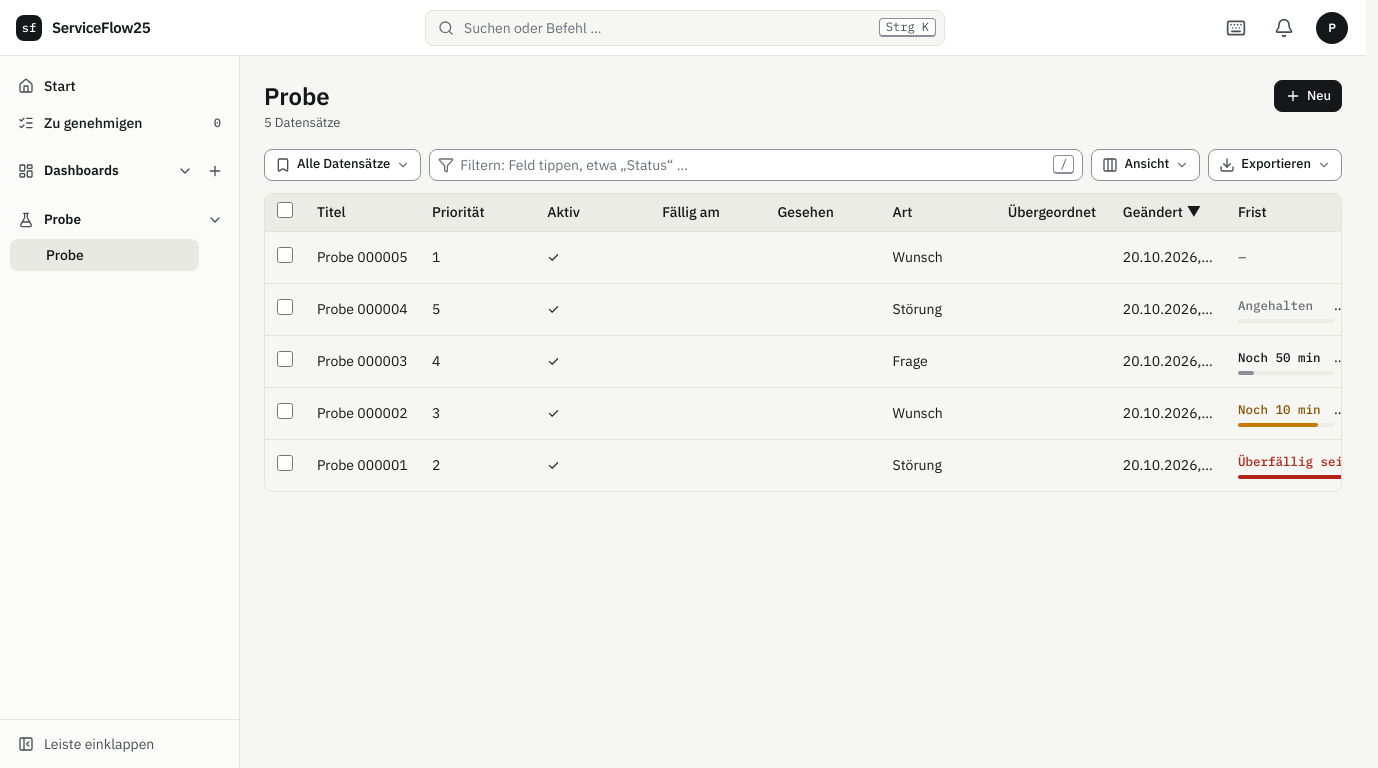
Test: Deadline column › filters the breached and the close ones against the moment of the query
Expected: the row "Probe 000001" is shown, [265,439,1341,491]
In the filter row (UI50): the deadline, arrow left to the comparison, "überschritten".
Click the dropdown named "Filter setzen" at [755, 165], box [460,150,1049,180]
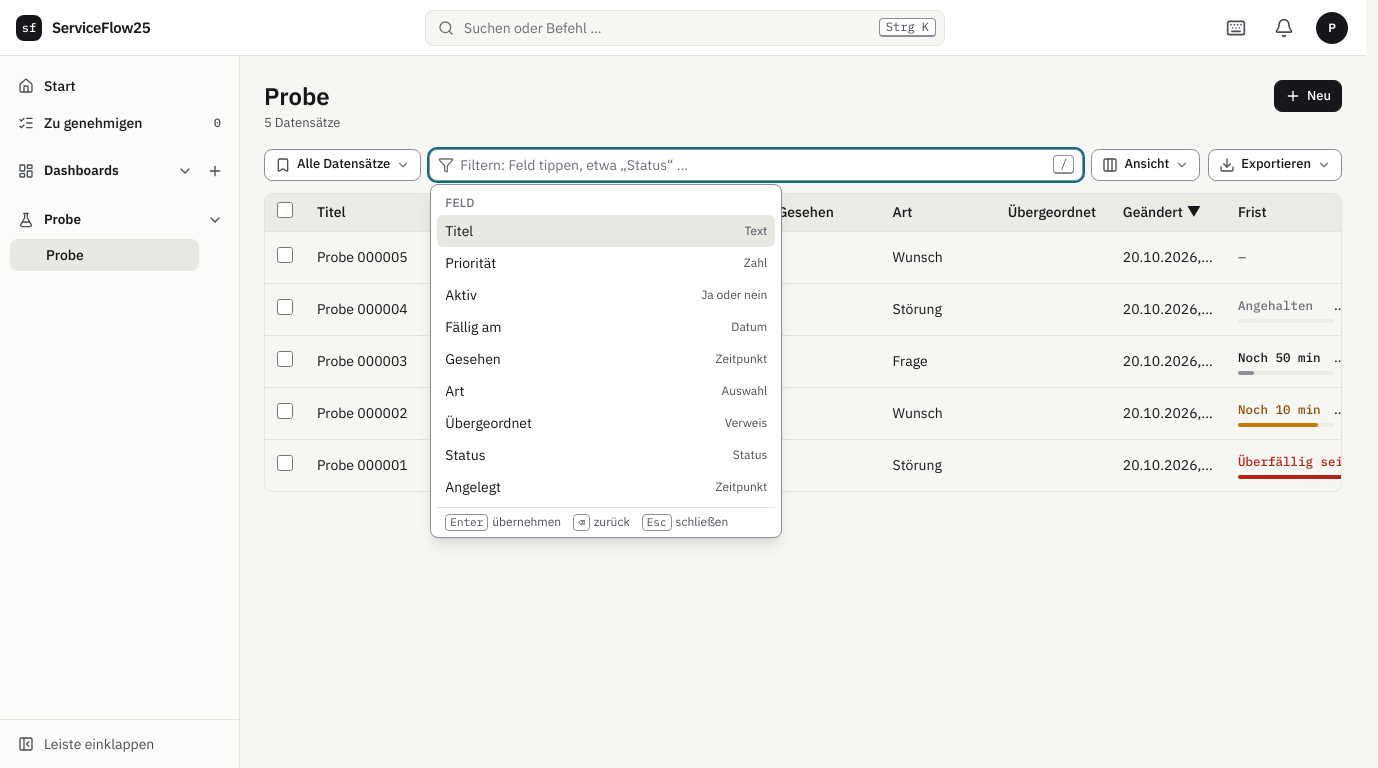
Type keys "frist{Enter}{ArrowLeft}über{Enter}"
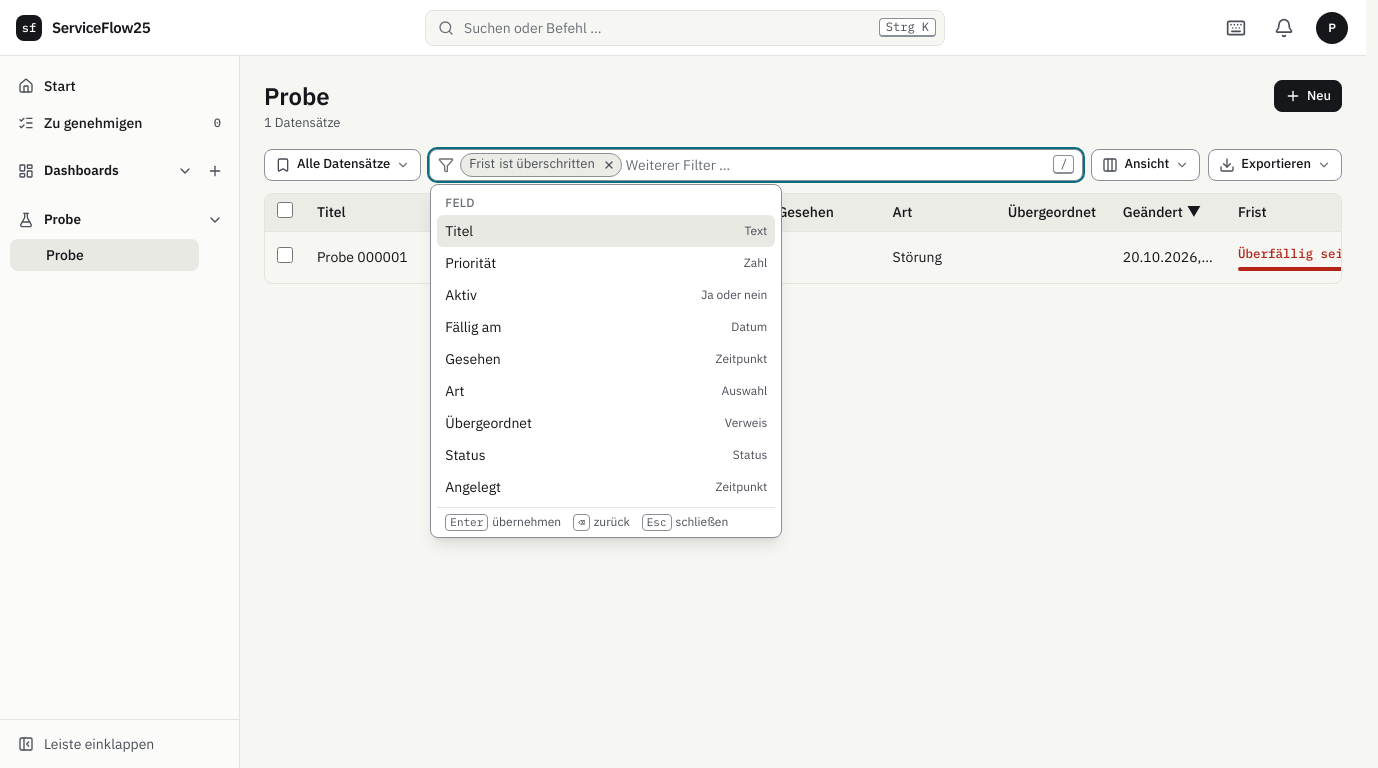
Expected: the row "Probe 000001" is shown, [265,231,1341,283]
Expected: the button "Frist ist überschritten" is shown
Expected: the cell "Probe 000002" is gone
A click on the chip changes it: the comparison "knapp" instead.
Click the button "Frist ist überschritten" at [529, 165], box [461,153,597,177]
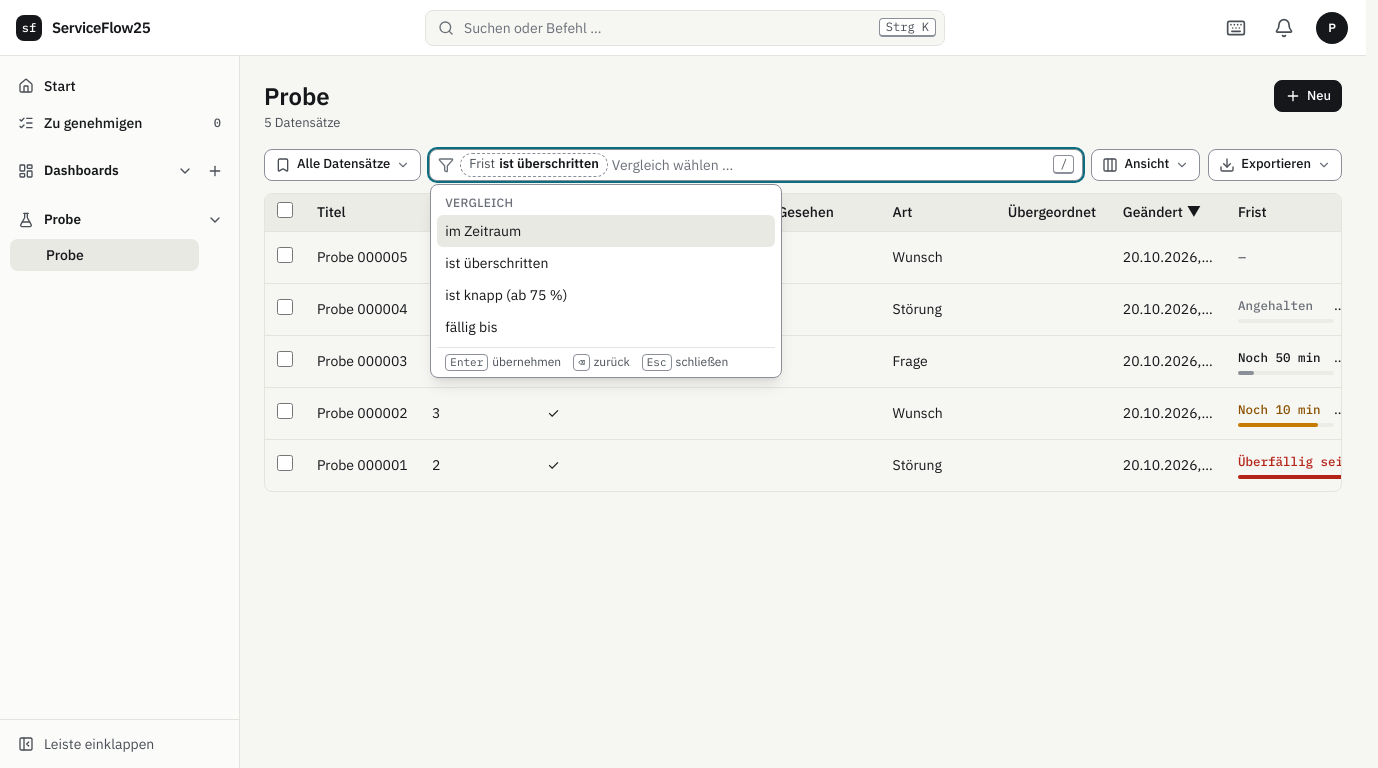
Type keys "knapp{Enter}"
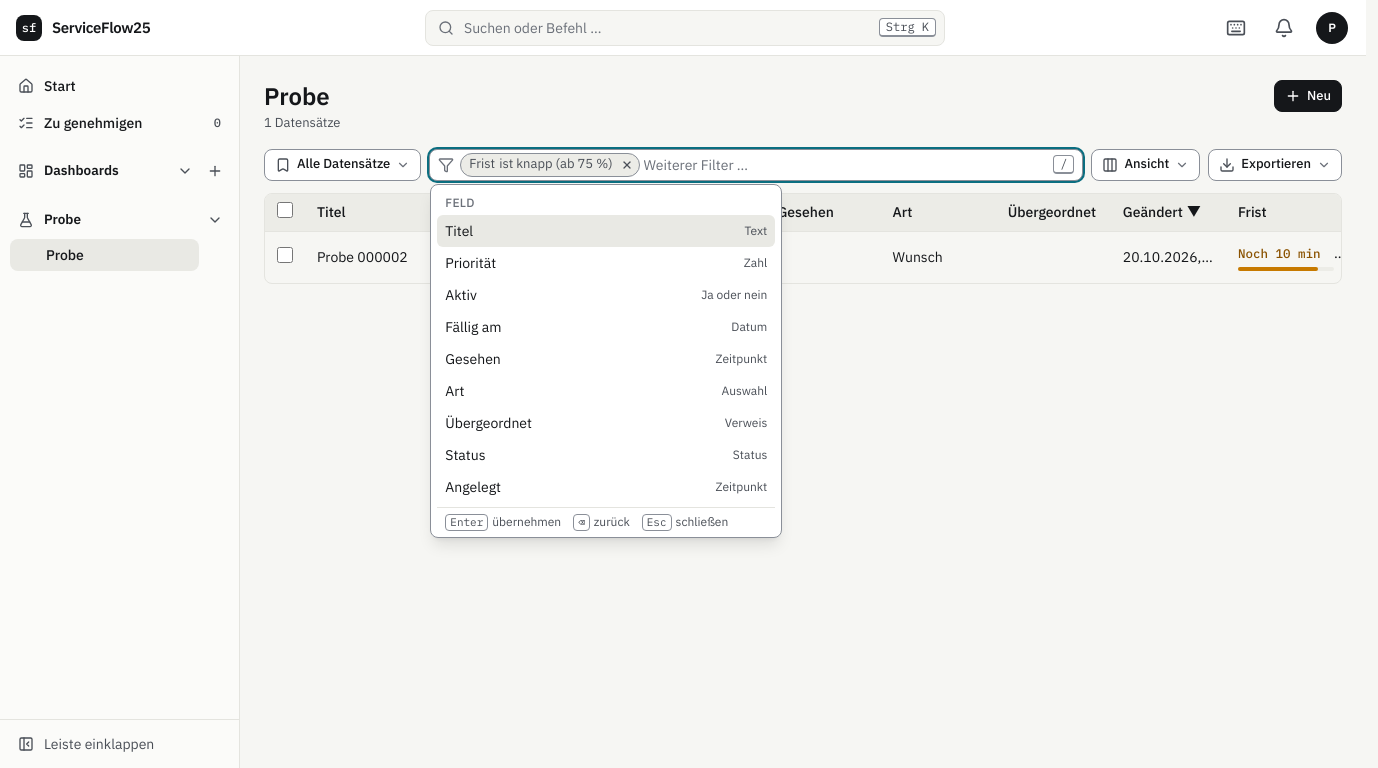
Expected: the row "Probe 000002 3 ✓ Wunsch 20.10.2026, 10:00:02 Noch 10 min" is shown, [265,231,1341,283]
Expected: the cell "Probe 000001" is gone
